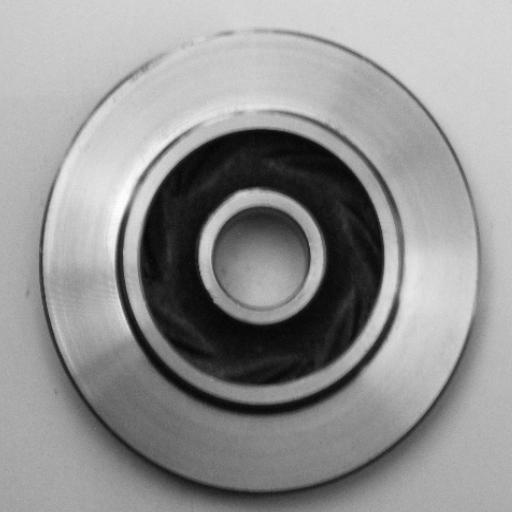scratch: (133, 16, 241, 83), (185, 104, 280, 142)
unpolished_casting: (40, 26, 482, 500)
